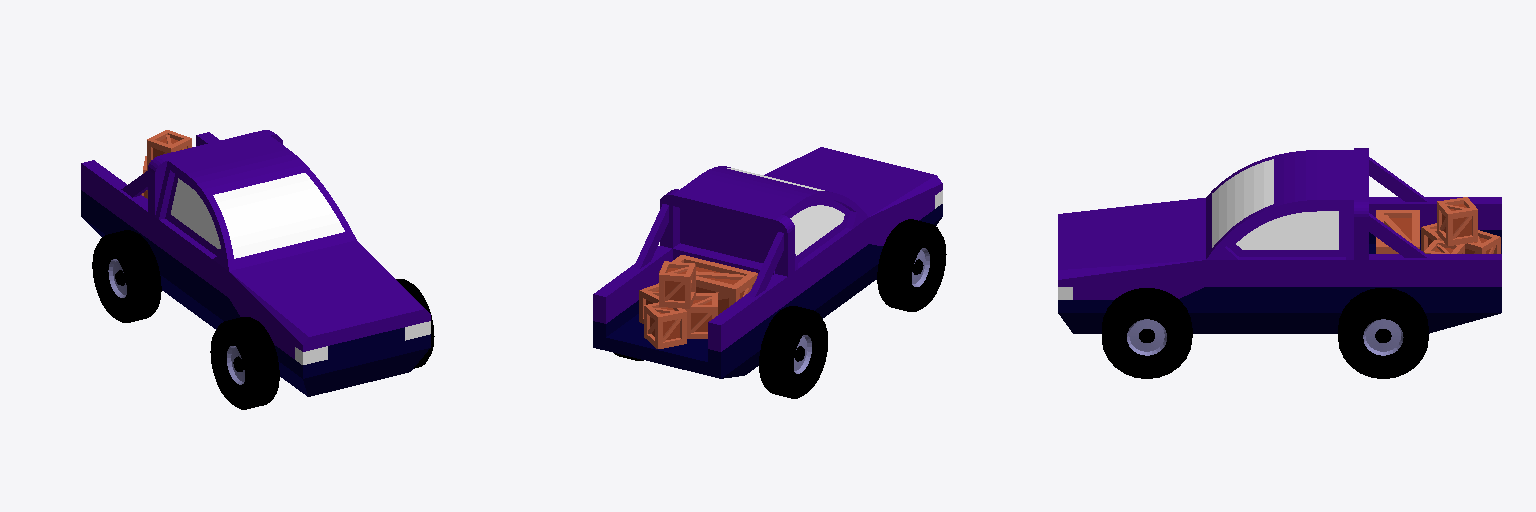
File: car4.obj
The picture shows the model from 3 angles: view 1: azimuth 30°, elevation 25°; view 2: azimuth 150°, elevation 25°; view 3: azimuth 270°, elevation 25°; orthographic projection.
Visible parts, largest first — view 1: body_frontLarge, body_topRound, wheel_small, body_standard, body_backBed, detail_rollbar, detail_crate; view 2: body_backBed, wheel_small, body_topRound, body_frontLarge, detail_rollbar, detail_crate, body_standard, detail_crateLong; view 3: body_frontLarge, body_topRound, wheel_small, body_standard, body_backBed, detail_rollbar, detail_crate, detail_crateLong.
Part boxes in pixels (left/top/right/bottom): body_frontLarge: left=229, top=240, right=430, bottom=396; body_topRound: left=155, top=136, right=356, bottom=270; wheel_small: left=92, top=230, right=434, bottom=409; body_standard: left=155, top=218, right=228, bottom=329; body_backBed: left=81, top=132, right=220, bottom=292; detail_rollbar: left=121, top=130, right=282, bottom=216; detail_crate: left=141, top=130, right=191, bottom=197; body_backBed: left=593, top=243, right=794, bottom=378; wheel_small: left=614, top=219, right=946, bottom=398; body_topRound: left=680, top=166, right=868, bottom=270; body_frontLarge: left=764, top=147, right=942, bottom=292; detail_rollbar: left=634, top=189, right=794, bottom=296; detail_crate: left=639, top=261, right=717, bottom=348; body_standard: left=795, top=218, right=868, bottom=318; detail_crateLong: left=659, top=255, right=757, bottom=314; body_frontLarge: left=1058, top=198, right=1205, bottom=333; body_topRound: left=1206, top=150, right=1353, bottom=259; wheel_small: left=1102, top=288, right=1428, bottom=378; body_standard: left=1206, top=257, right=1353, bottom=333; body_backBed: left=1354, top=197, right=1501, bottom=333; detail_rollbar: left=1354, top=148, right=1427, bottom=259; detail_crate: left=1421, top=197, right=1500, bottom=253; detail_crateLong: left=1376, top=210, right=1419, bottom=253.
Bounding box in the file's own units: 1.43 × 1.21 × 3.